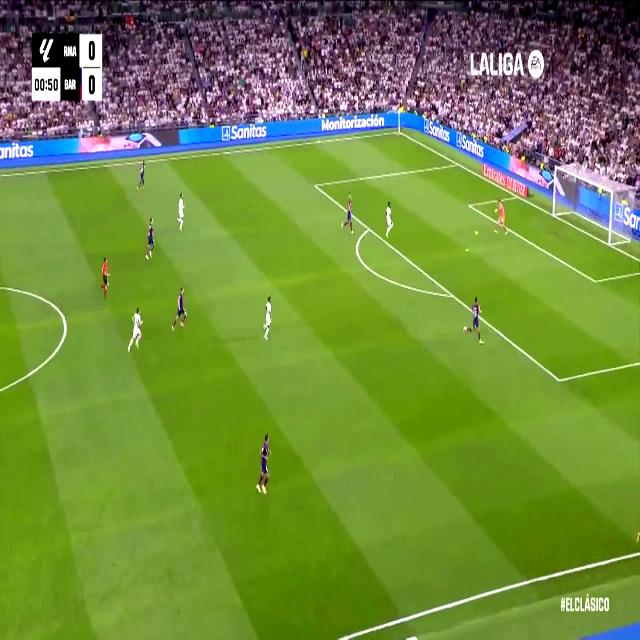bigarea_bottom_inner: (554, 368, 564, 390)
bigarea_top_inner: (313, 180, 318, 191)
bigarea_top_outter: (454, 158, 460, 168)
bottom_arc_area_intersection: (448, 286, 456, 302)
corner: (396, 126, 402, 136)
smallarea_bottom_inner: (592, 272, 600, 290)
smallarea_top_inner: (467, 200, 472, 210)
top_arc_area_intersection: (366, 222, 372, 234)
